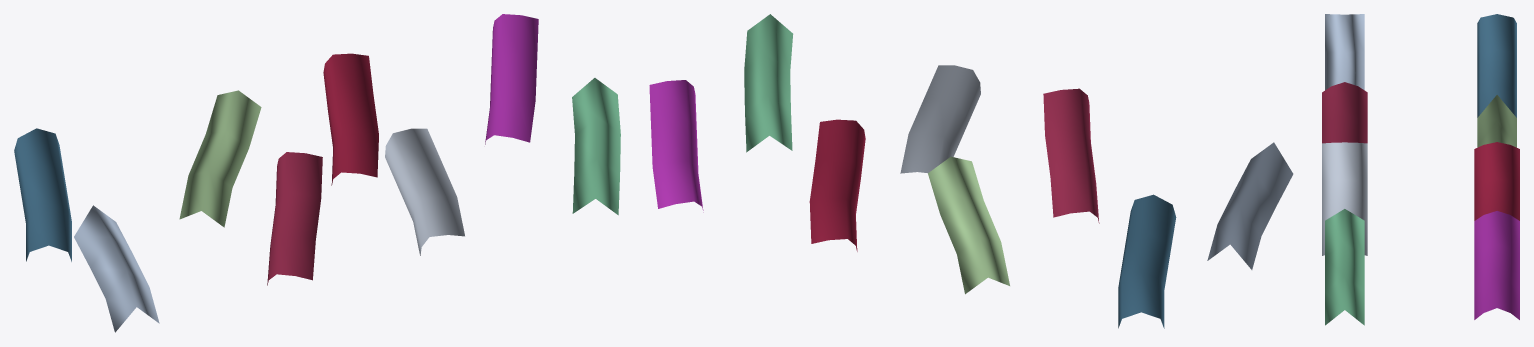
Rendered from std_mats_2_PolyLineTest_2023-06-04-21-23-01.gltf.
3 renders of one model, left to right at view 1: azimuth 30°, elevation 25°; view 2: azimuth 150°, elevation 25°; view 3: azimuth 270°, elevation 25°, orthographic. The views are drawn at different scales.
Size of the model in its own units: 724 by 161 by 260.
